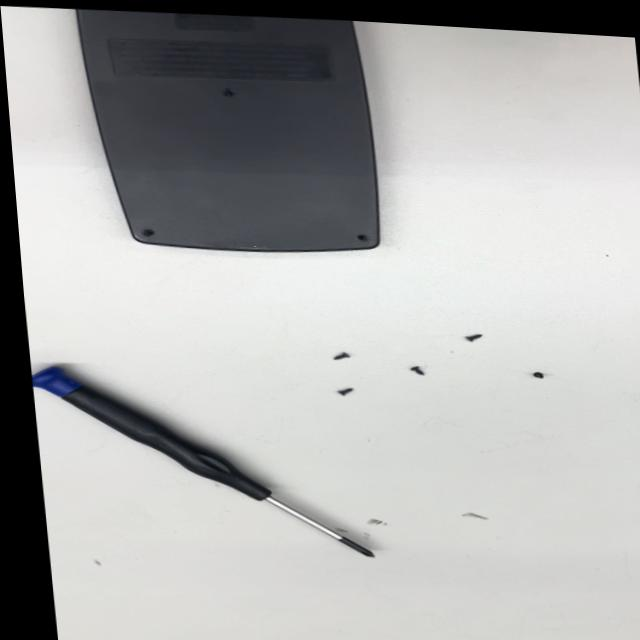back_cover: (79, 5, 386, 267)
screw: (407, 361, 433, 382), (457, 329, 487, 347), (333, 382, 358, 403), (533, 366, 553, 386), (327, 349, 356, 361)
screw_driver: (36, 357, 383, 569)
